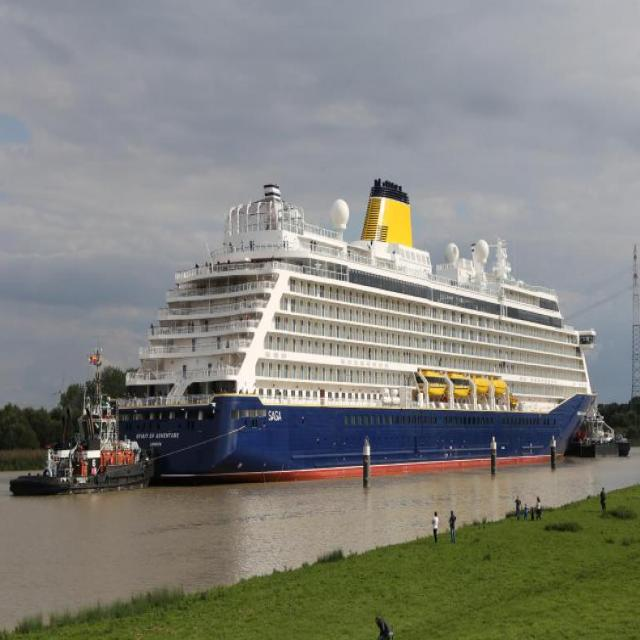cruises: (114, 159, 603, 478)
